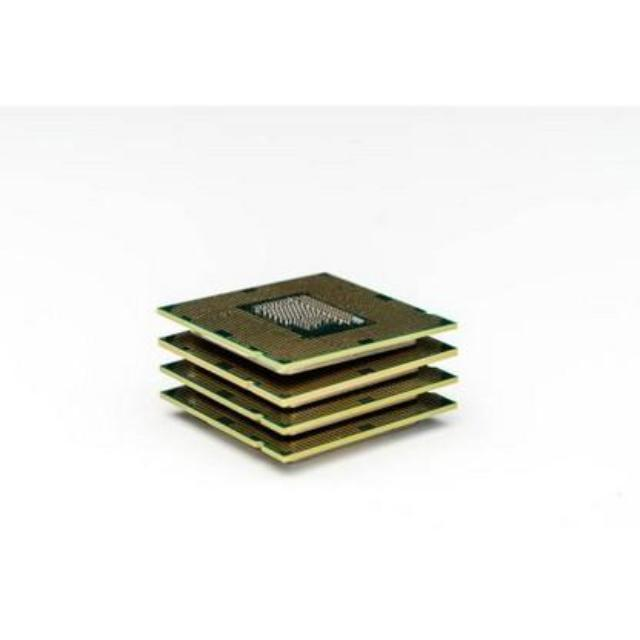CPU: (154, 272, 456, 460)
